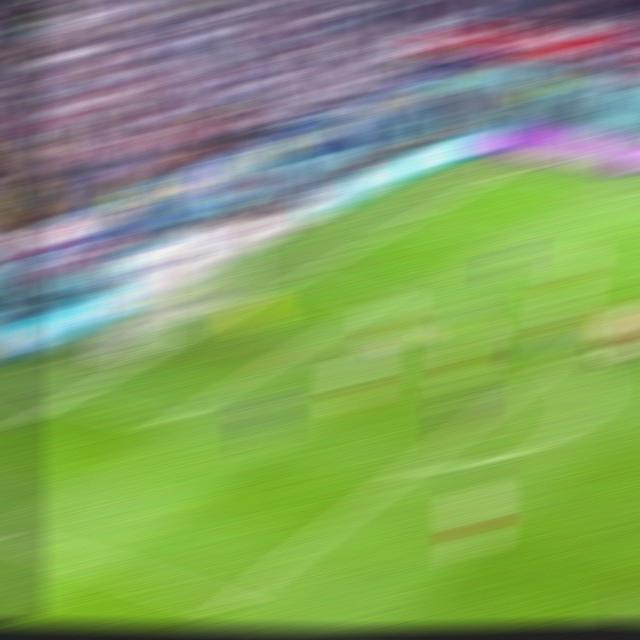bigarea_bottom_inner: (205, 591, 249, 624)
bigarea_top_outter: (378, 215, 419, 238)
bottom_arc_area_intersection: (389, 456, 431, 481)
corner: (489, 167, 524, 176)
smallarea_bottom_inner: (142, 410, 187, 441)
smallarea_bottom_outter: (45, 383, 89, 412)
smallarea_top_inner: (362, 295, 396, 308)
smallarea_top_outter: (275, 270, 315, 293)
top_arc_area_intersection: (544, 344, 582, 370)
